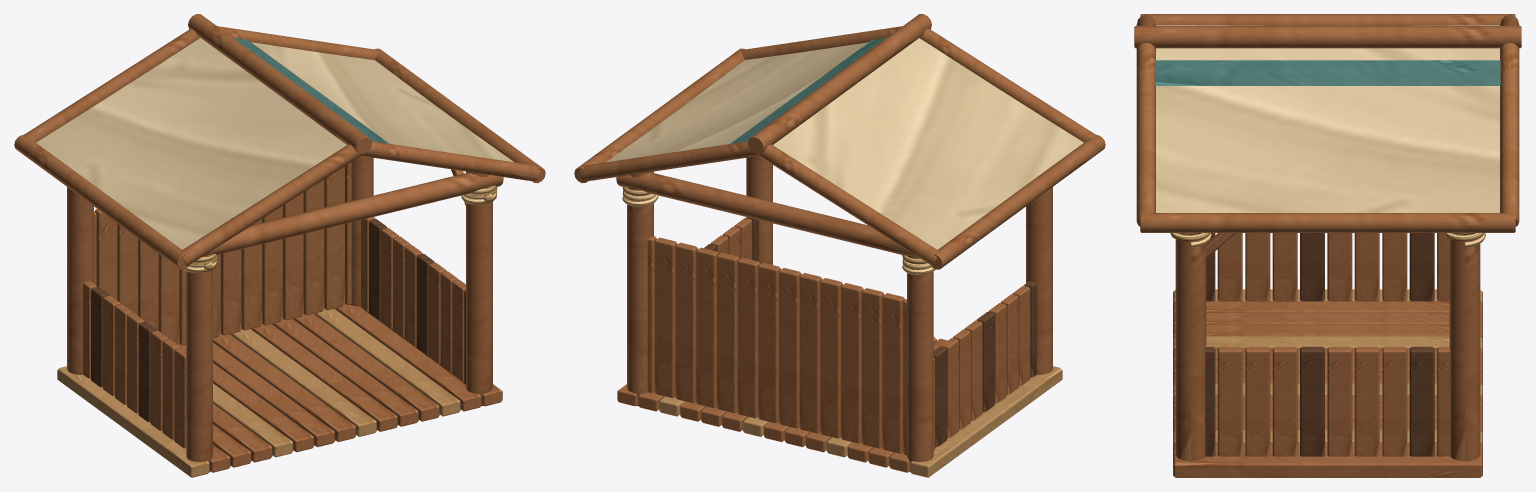
Rendered from SM_SupplyShed.glb.
The picture shows the model from 3 angles, left to right: view 1: azimuth 30°, elevation 25°; view 2: azimuth 150°, elevation 25°; view 3: azimuth 270°, elevation 25°; orthographic projection. The views are drawn at different scales.
Parts seen in each view (by area): view 1: SM_SupplyShed; view 2: SM_SupplyShed; view 3: SM_SupplyShed.
Boxes of the visible parts, x1,y1,x2,y2 form: SM_SupplyShed: [14, 14, 545, 477]; SM_SupplyShed: [574, 14, 1105, 477]; SM_SupplyShed: [1134, 14, 1521, 477].
Size of the model in its own units: 4.12 by 3.38 by 3.25.
1 material, 1 textured.
